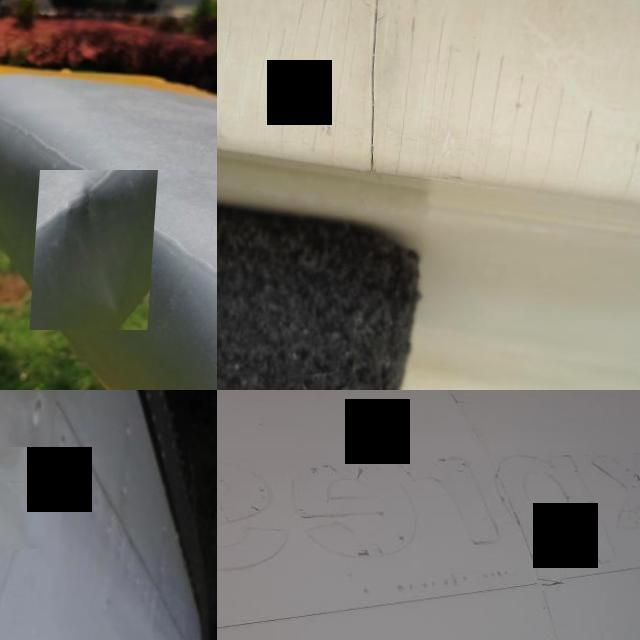Crack: (414, 16, 460, 180), (281, 0, 308, 158), (397, 7, 421, 179), (459, 41, 487, 181), (333, 0, 356, 165), (305, 0, 332, 134), (485, 51, 511, 181), (507, 70, 532, 185), (371, 0, 383, 175), (540, 577, 568, 591)
Dent: (35, 170, 162, 330), (0, 459, 44, 549)
